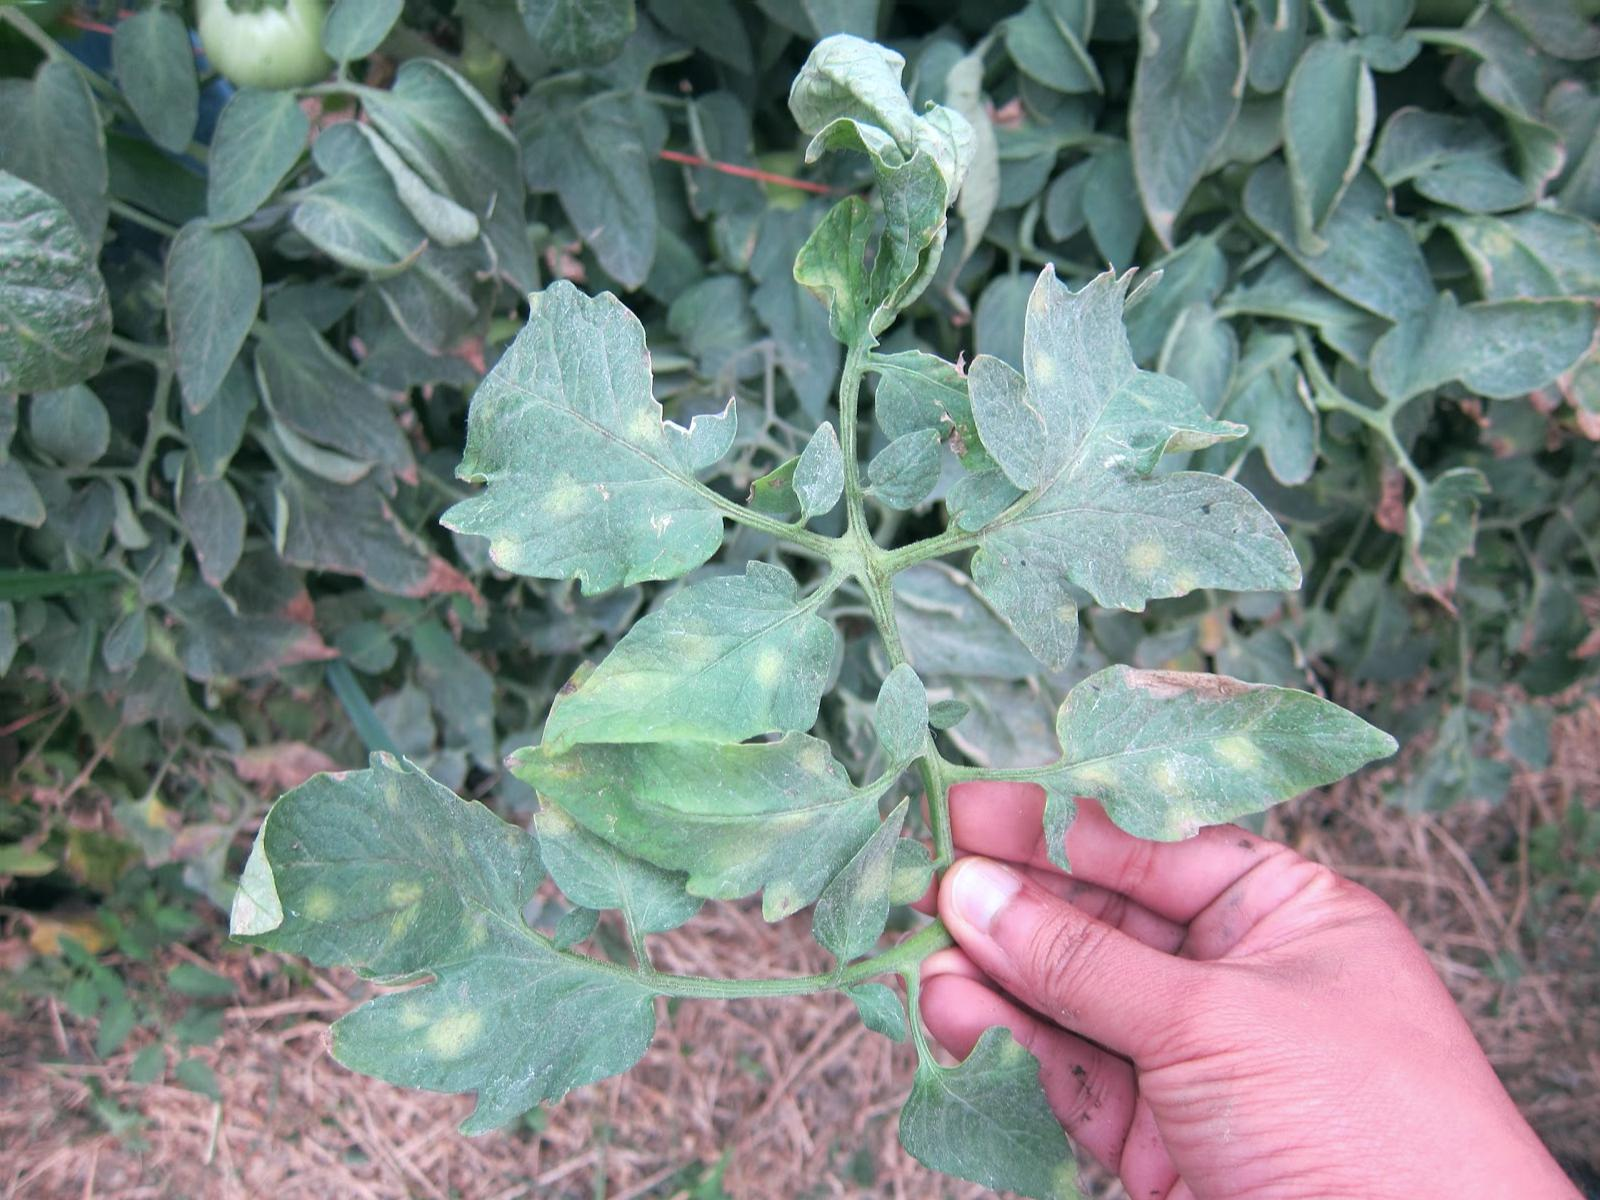Tomato mold leaf: (960, 247, 1311, 653), (433, 280, 750, 596), (1041, 621, 1417, 860), (191, 729, 547, 981), (520, 558, 829, 843), (488, 753, 910, 955), (256, 945, 708, 1131), (777, 26, 976, 342), (879, 1015, 1094, 1195)
